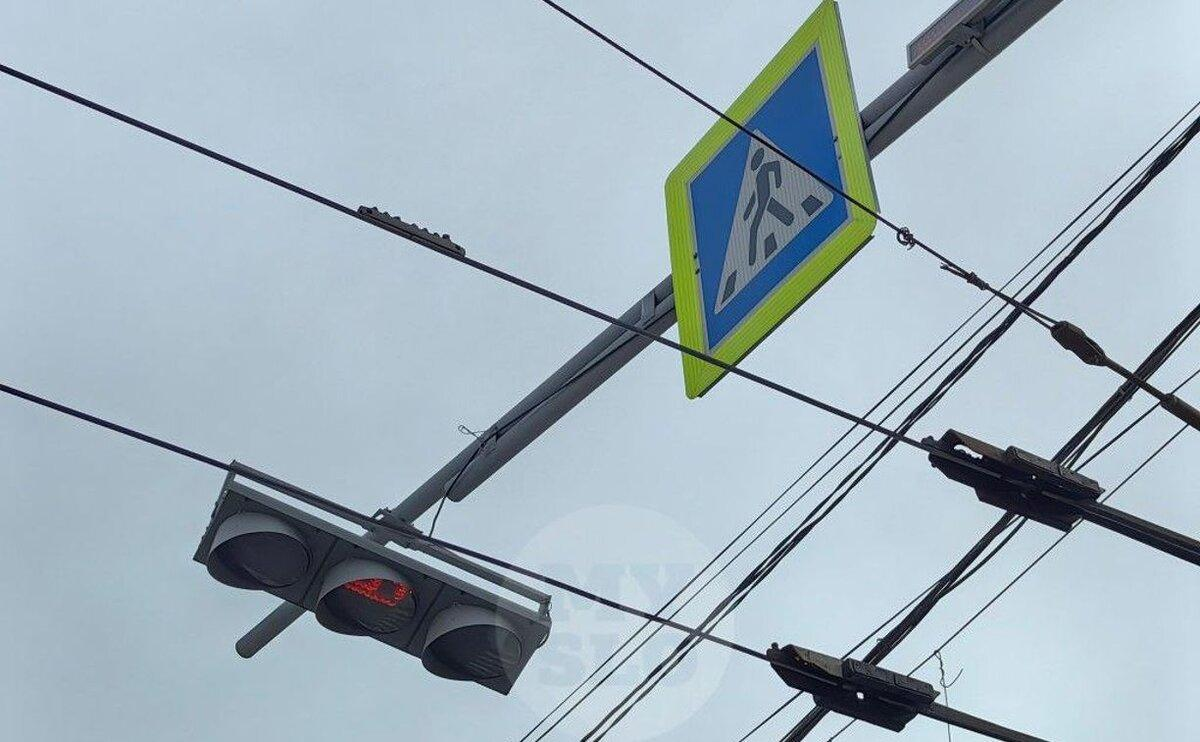off traffic light: (194, 481, 551, 695)
road_sign: (664, 1, 876, 401)
